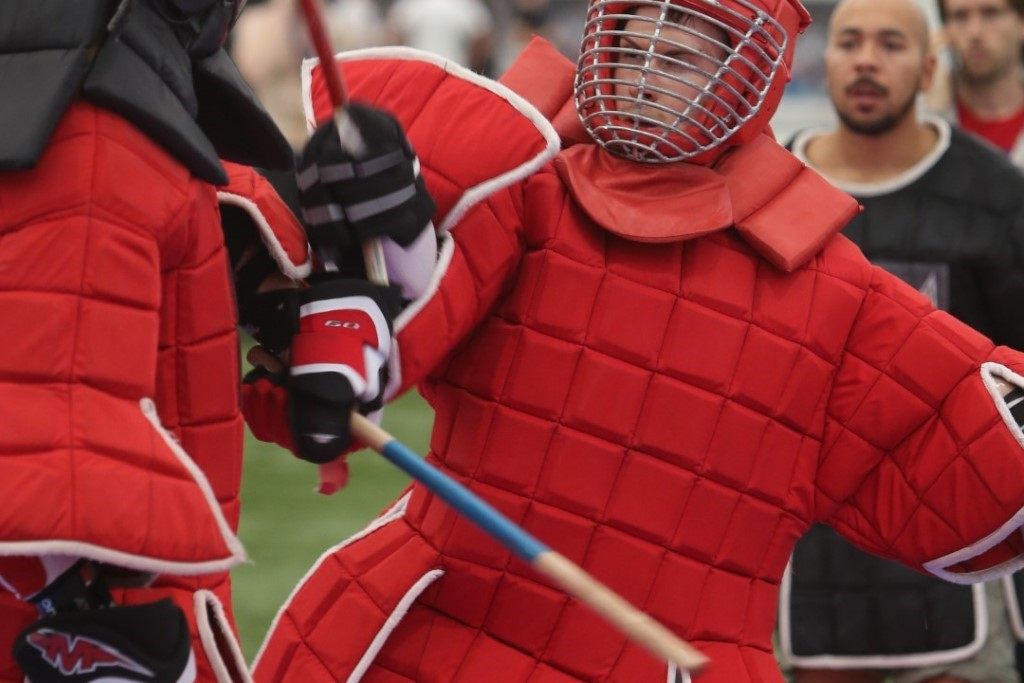baston_e: (250, 364, 714, 651), (300, 10, 396, 282)
baston_v: (677, 646, 724, 683), (239, 330, 272, 373)
